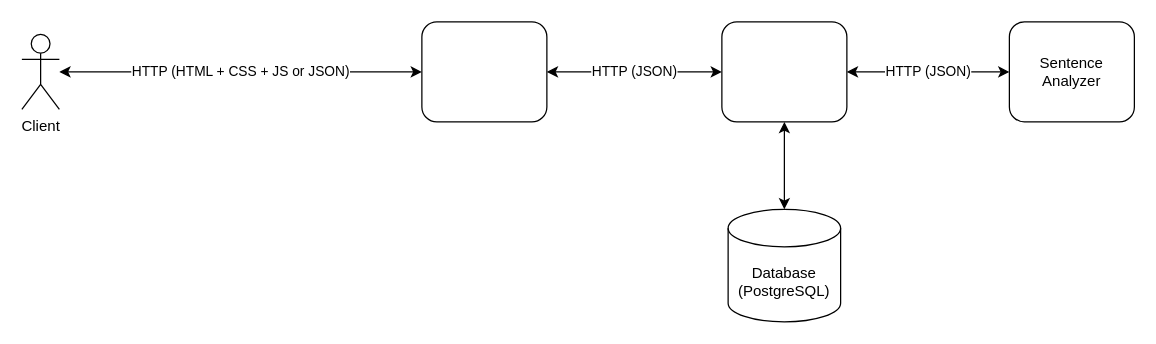
Image size: 1156x344. Some labels were removed from this diagram. Here are the shapes that lost their labels. From the top down, the centre of each, then its label:
pixel 484 71: Web Server (Nginx)
pixel 784 71: Application Server
